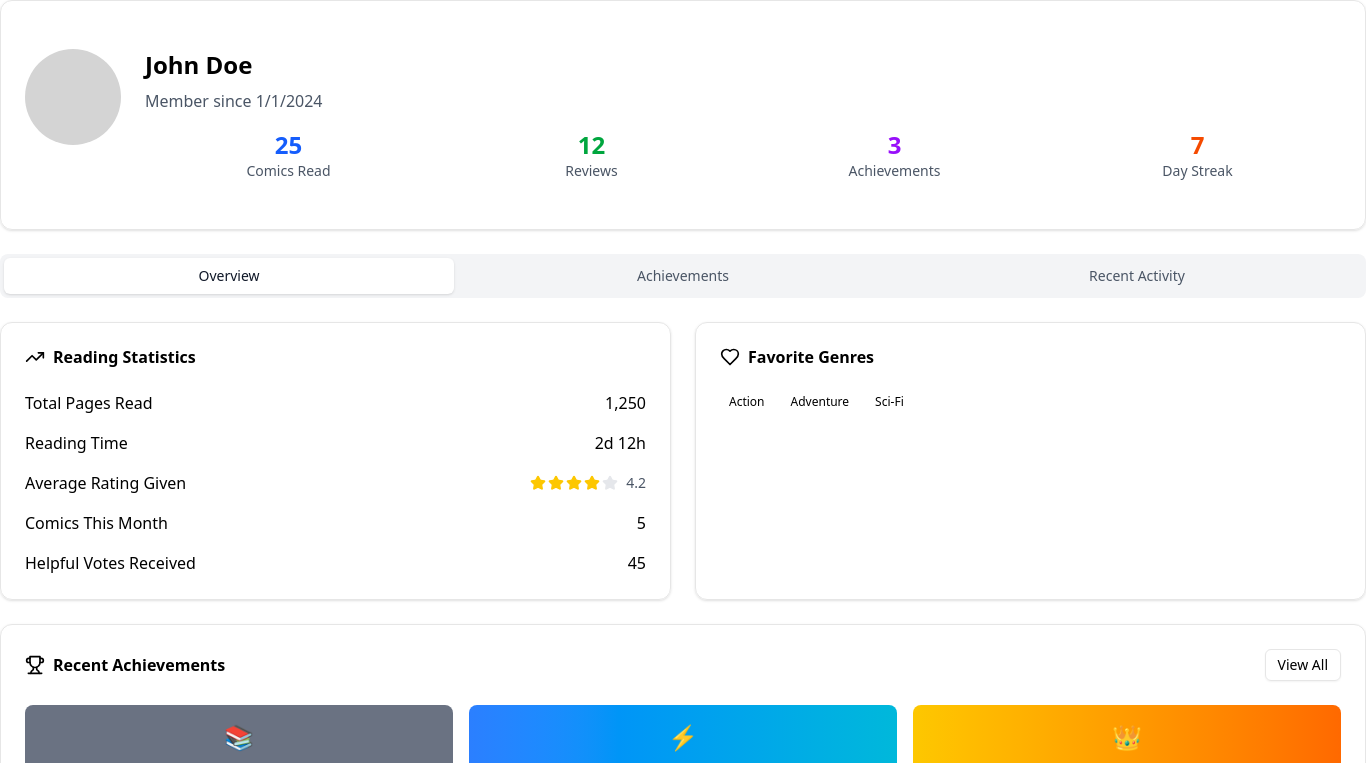
Test: UserProfile › displays recent activity correctly
Note: Switch to activity tab
Click the button "Recent Activity".
click(1137, 276)  # box [912,258,1362,294]
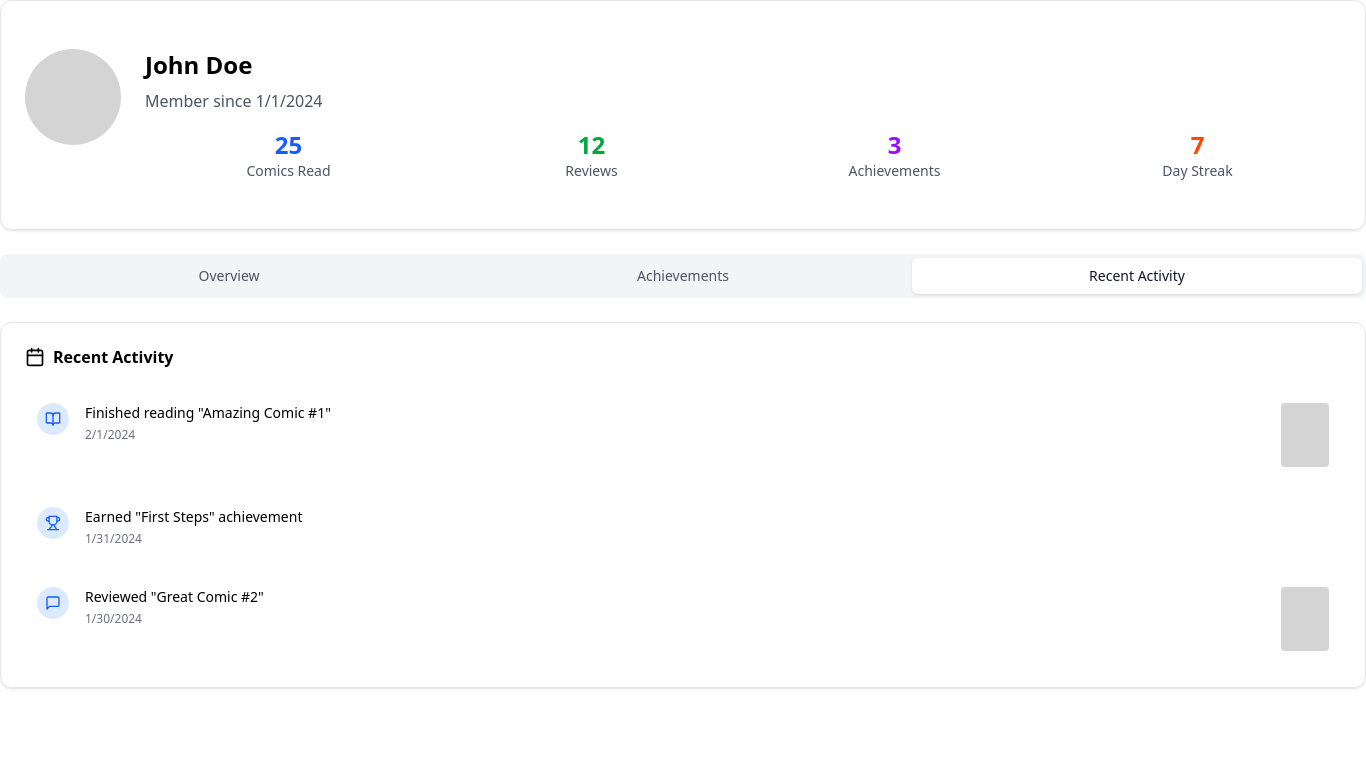
Now the text "Finished reading \"Amazing Comic #1\"" is shown, box [85,403,331,422]
Now the text "Earned \"First Steps\" achievement" is shown, box [85,507,302,526]
Now the text "Reviewed \"Great Comic #2\"" is shown, box [85,587,264,606]
